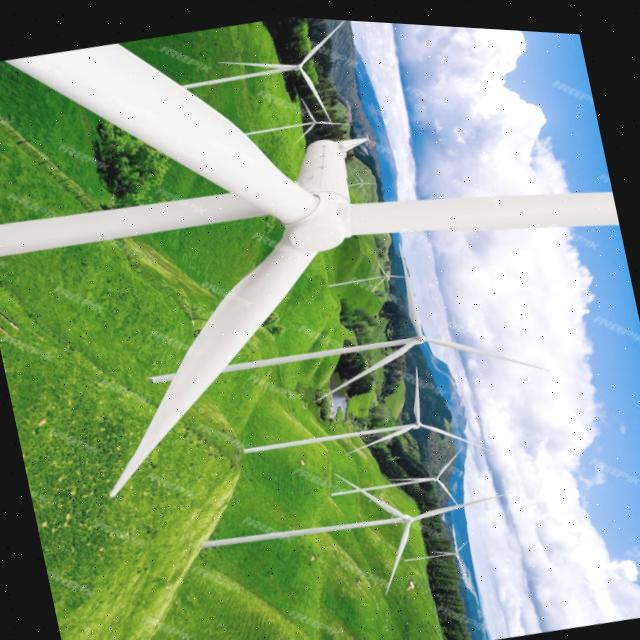solid-blade: (109, 239, 313, 495), (318, 336, 416, 395), (424, 330, 547, 363)
wind-turbine: (223, 252, 545, 395), (202, 483, 494, 587), (244, 372, 486, 450), (182, 16, 344, 116), (244, 94, 350, 140)
